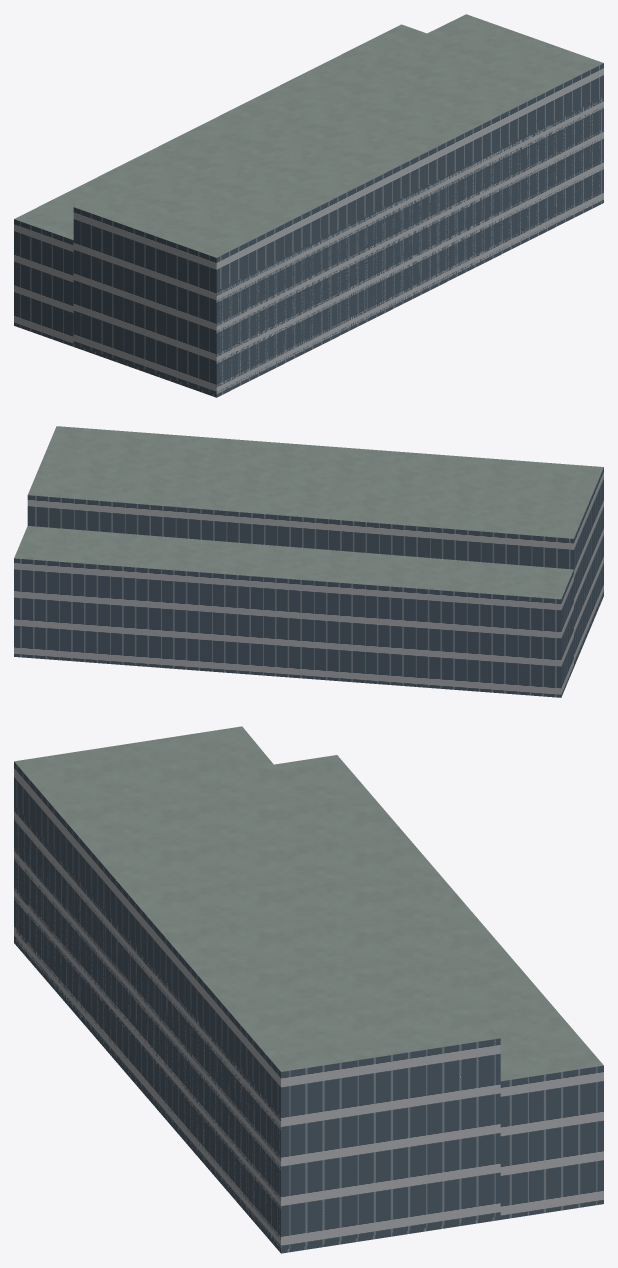
The picture shows the model from 3 angles, top to bottom: view 1: azimuth 30°, elevation 25°; view 2: azimuth 150°, elevation 25°; view 3: azimuth 270°, elevation 25°; orthographic projection. The views are drawn at different scales.
Parts seen in each view (by area): view 1: hospital-dental; view 2: hospital-dental; view 3: hospital-dental.
Part boxes in pixels (x1,y1,x2,y2): hospital-dental: [14, 14, 603, 397]; hospital-dental: [14, 426, 603, 697]; hospital-dental: [14, 726, 603, 1253].
Size of the model in its own units: 70.27 by 16.52 by 48.64.
Materials: 2 (2 with a texture image).
